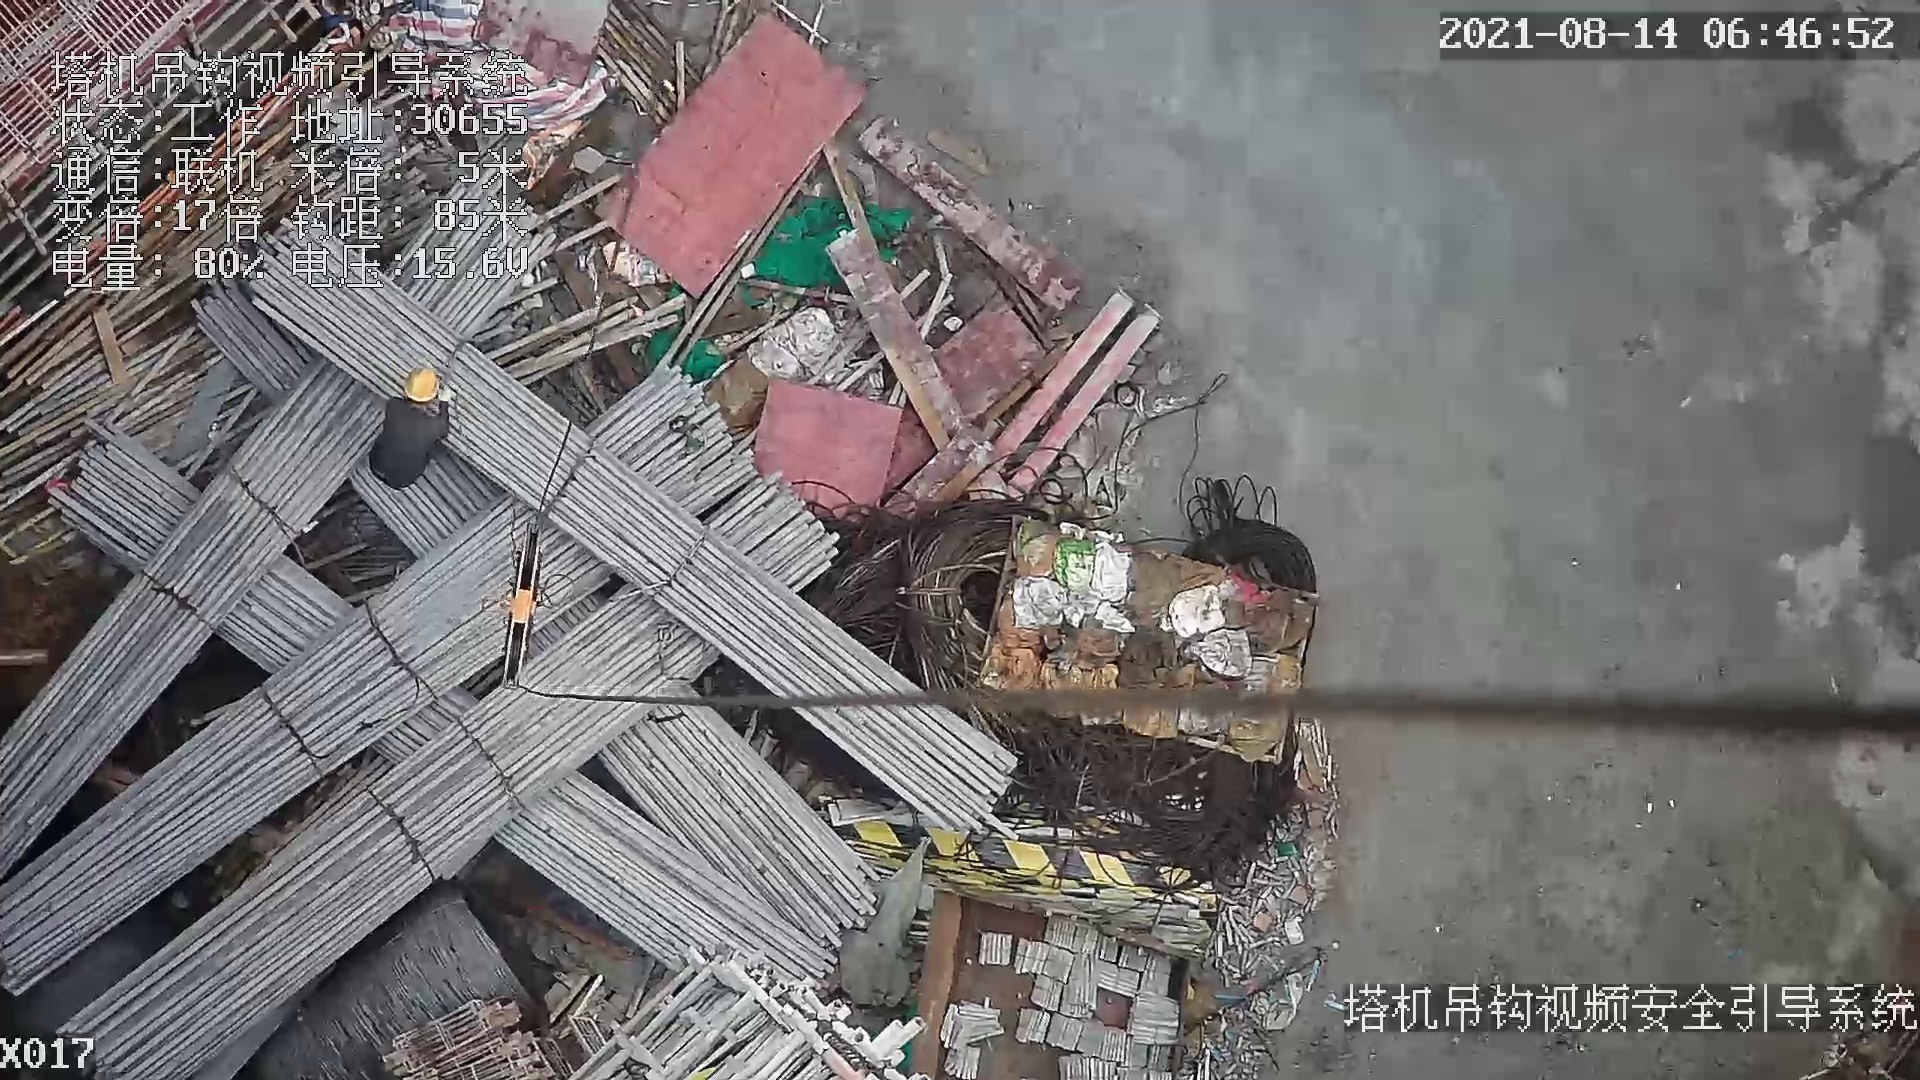board: (592, 13, 867, 293)
helmet: (403, 369, 440, 401)
hook: (491, 522, 544, 694)
person: (367, 369, 460, 490)
